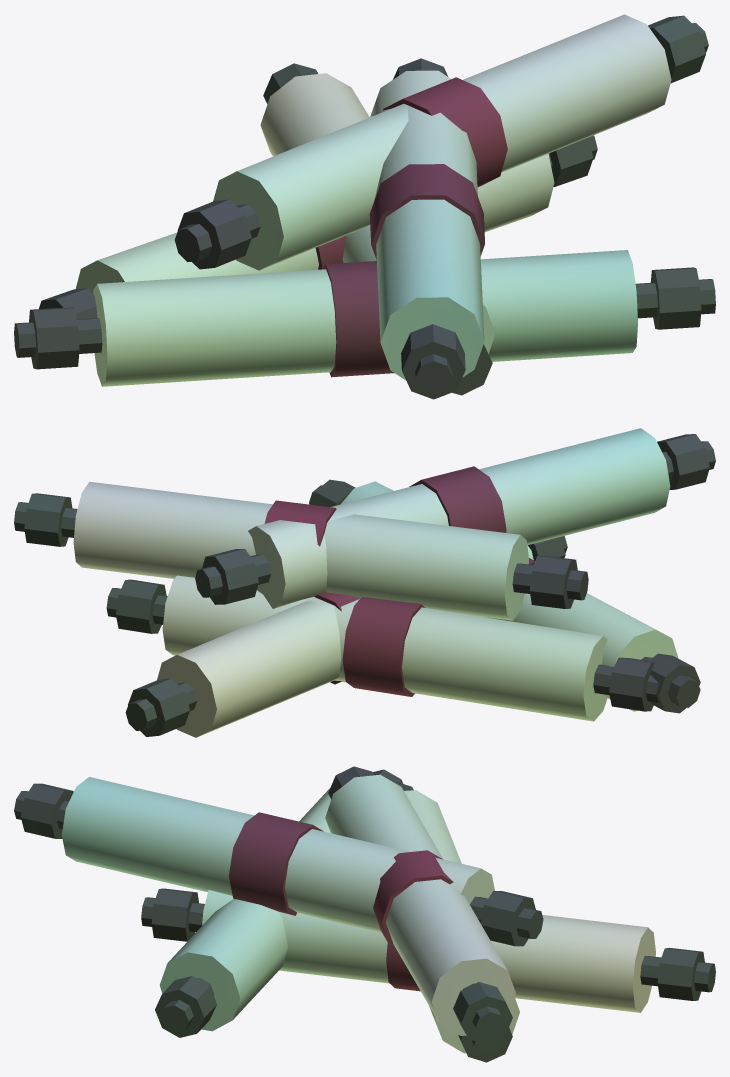
Rendered from scroll_pile.glb.
3 renders of one model, top to bottom at view 1: azimuth 30°, elevation 25°; view 2: azimuth 150°, elevation 25°; view 3: azimuth 270°, elevation 25°, orthographic. The views are drawn at different scales.
Visible parts, largest first — view 1: scroll, scroll_rods, scroll_bands; view 2: scroll, scroll_rods, scroll_bands; view 3: scroll, scroll_rods, scroll_bands.
Part boxes in pixels (left/top/right/bottom): scroll: left=75, top=14, right=671, bottom=386; scroll_rods: left=14, top=15, right=715, bottom=399; scroll_bands: left=315, top=77, right=507, bottom=377; scroll: left=73, top=428, right=678, bottom=737; scroll_rods: left=14, top=434, right=715, bottom=736; scroll_bands: left=264, top=466, right=535, bottom=696; scroll: left=61, top=774, right=655, bottom=1053; scroll_rods: left=14, top=766, right=715, bottom=1062; scroll_bands: left=228, top=812, right=453, bottom=991.
Bounding box in the file's own units: 0.5162 × 0.1147 × 0.5014.
